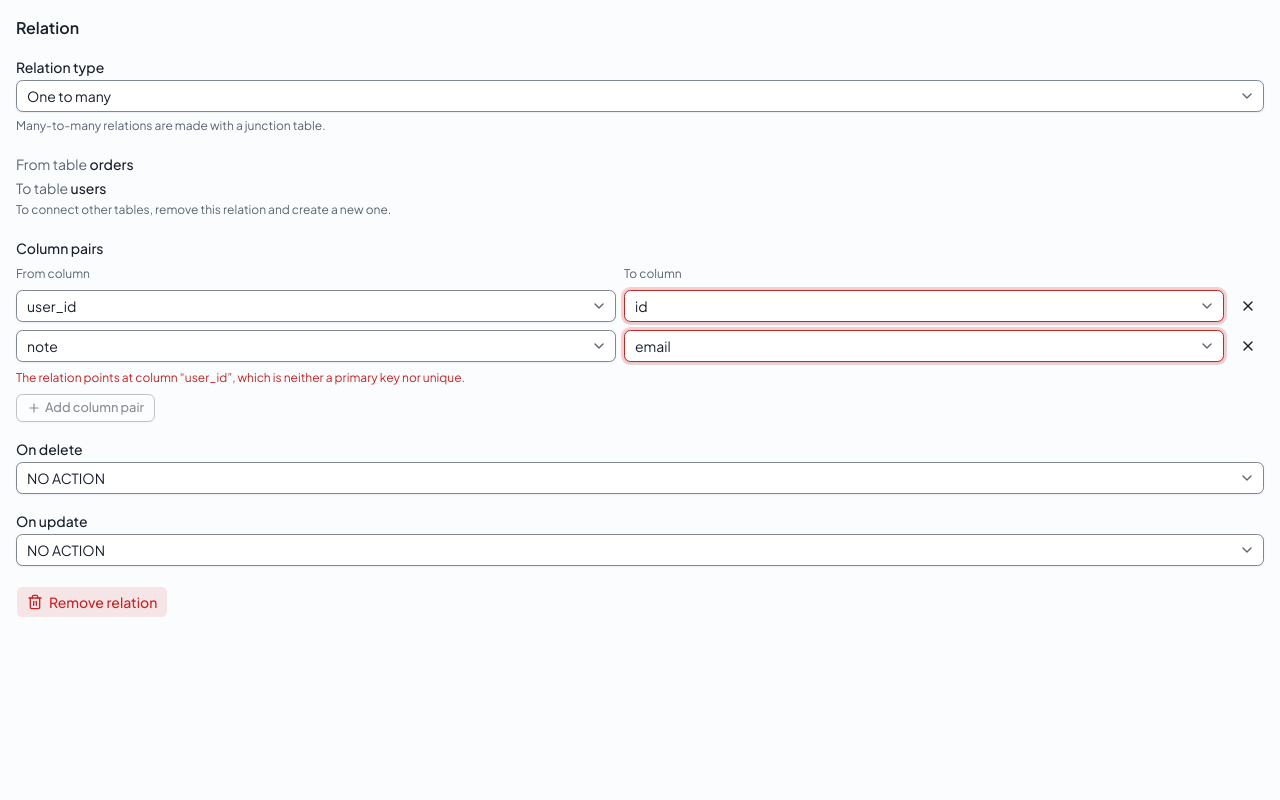
Test case: RelationPanel › offers only columns that no other pair uses
The image size is (1280, 800).
Click the dropdown named "From column, pair 2" at (42,346), box left=16, top=330, right=616, bottom=362
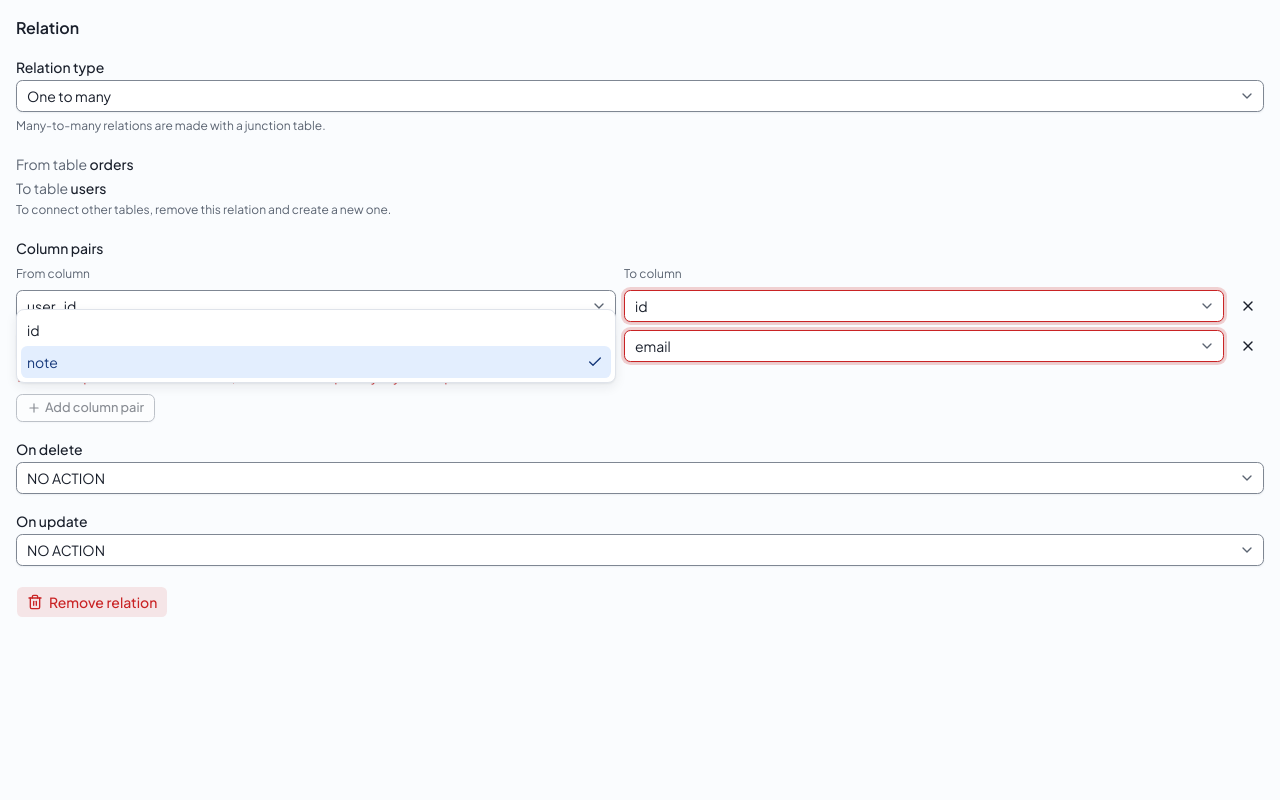
Result: the options read "id", "note", in this order at left=27, top=320, right=40, bottom=338; left=21, top=346, right=611, bottom=378
